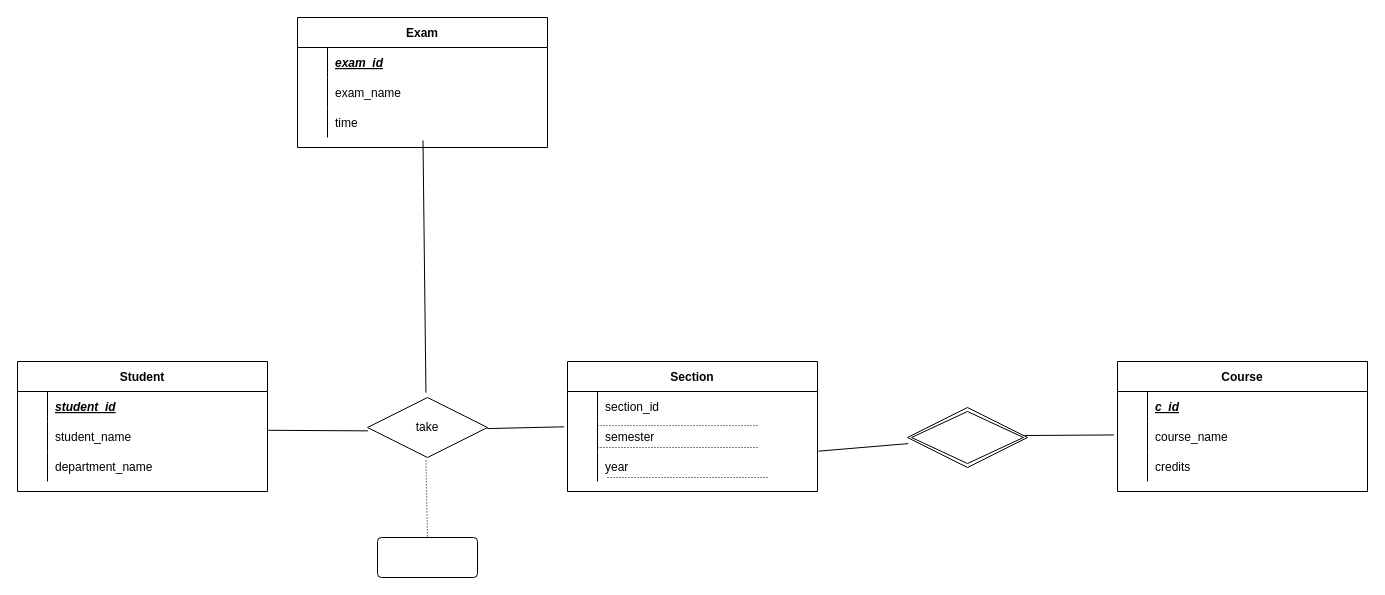
Some shapes in this 1385 by 595 pixel diagram are drawn without their labels. Each missing label, with the box of its shape:
link: (906, 406, 1028, 468)
Mark: (376, 536, 478, 578)
